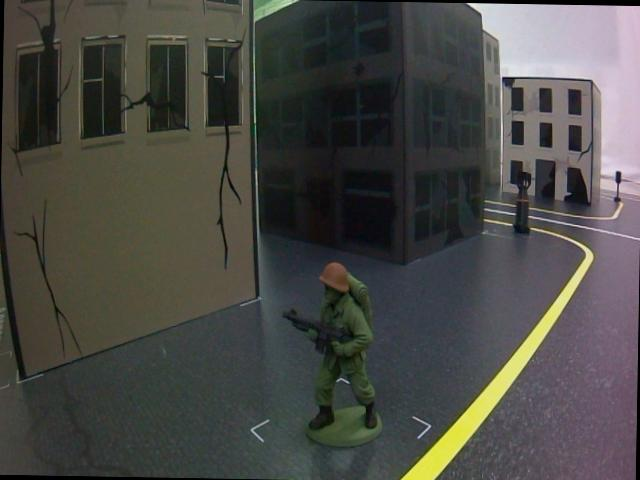Enemy: (278, 260, 391, 454)
Missile: (516, 170, 536, 234)
